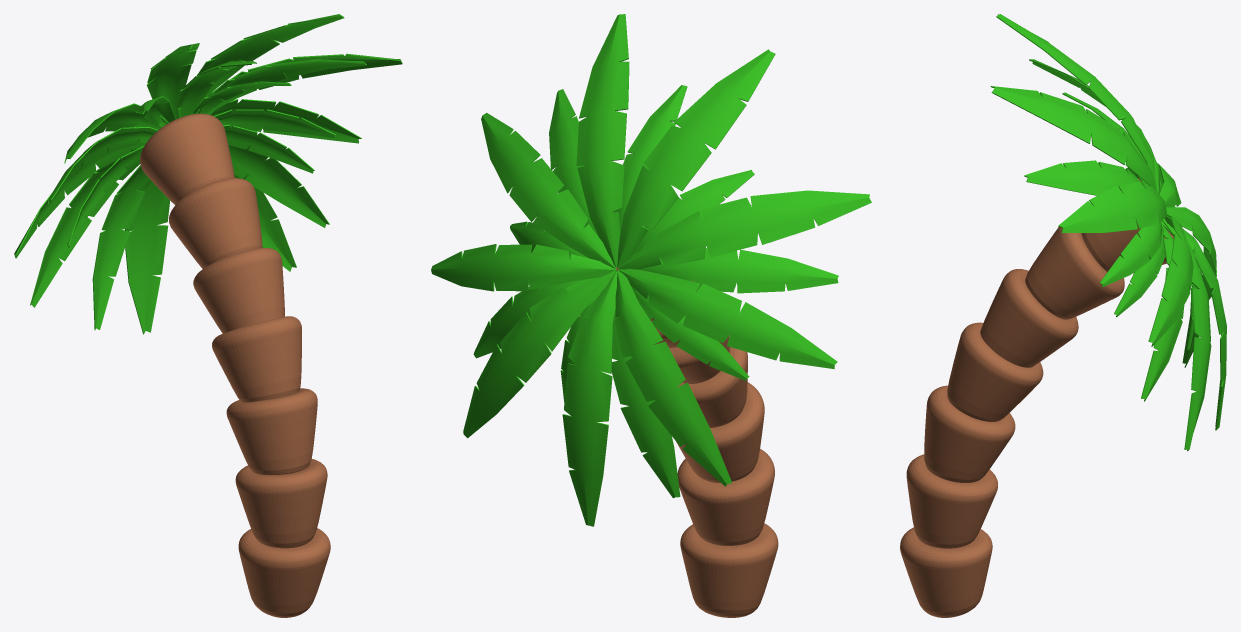
The model's file is Palmera2_45.fbx.
3 renders of one model, left to right at view 1: azimuth 30°, elevation 25°; view 2: azimuth 150°, elevation 25°; view 3: azimuth 270°, elevation 25°, orthographic. The views are drawn at different scales.
Visible parts, largest first — view 1: foliage.4_Plane.008; view 2: foliage.4_Plane.008; view 3: foliage.4_Plane.008.
Part boxes in pixels (x1,y1,x2,y2): foliage.4_Plane.008: (14,14,402,617); foliage.4_Plane.008: (431,14,871,617); foliage.4_Plane.008: (900,14,1226,617).
Bounding box in the file's own units: 4863 × 7207 × 3771.
